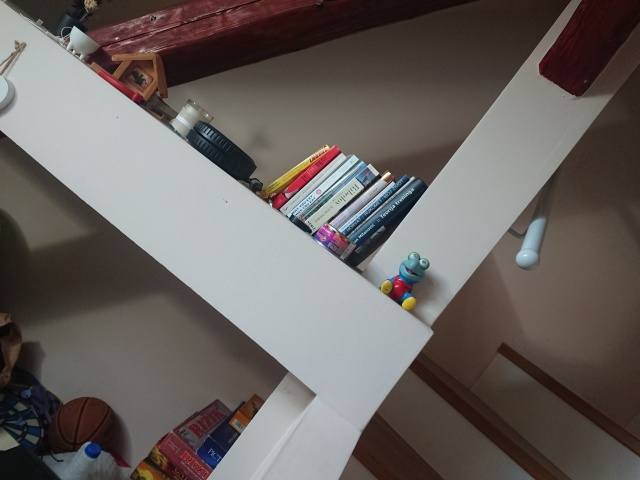Giana Tuna Salad Mexico 185g: (311, 220, 353, 260)
